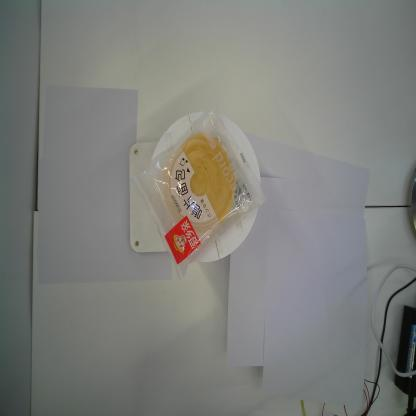Dessert: (131, 101, 266, 281)
